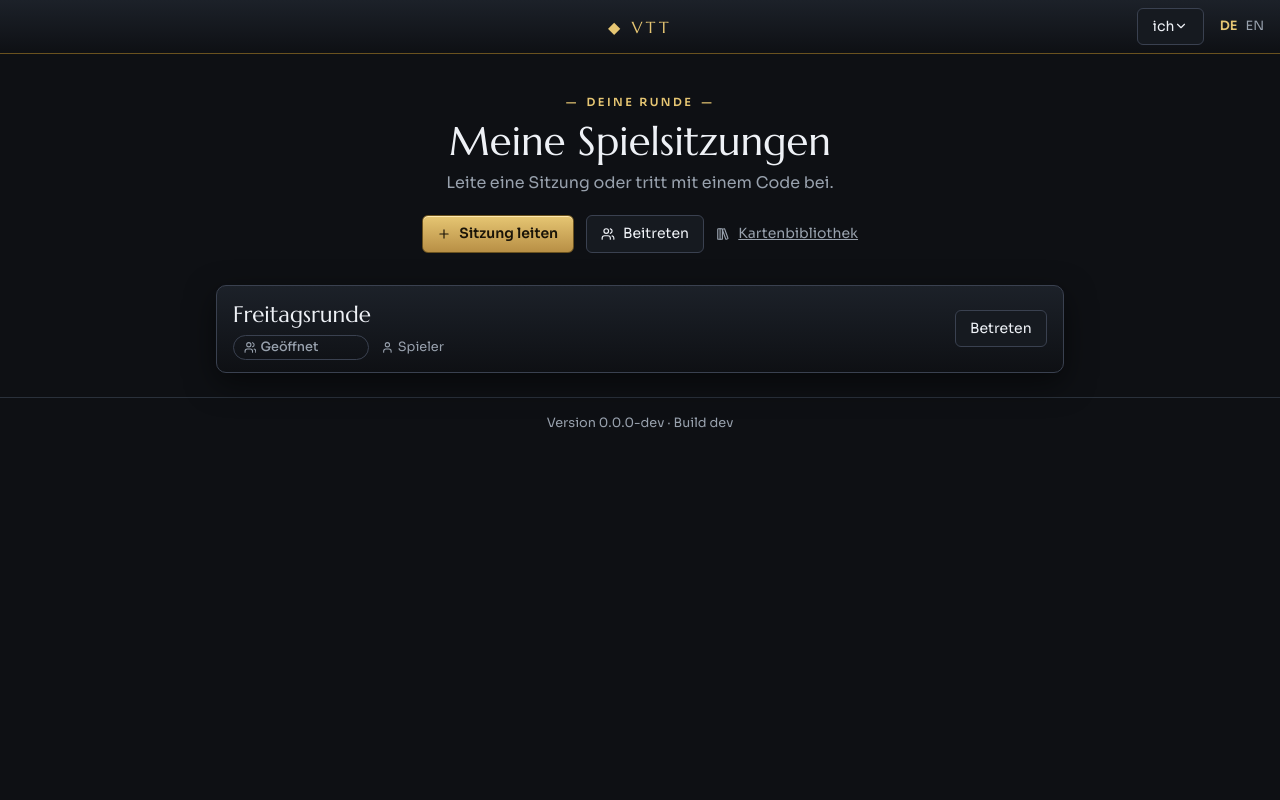
Scenario: Zeichnen aktiviert die Farbwahl
Expected: the heading "Freitagsrunde" is shown, [233,300,371,328]
Click the button "Betreten" at (1001, 328), box [955,310,1047,347]
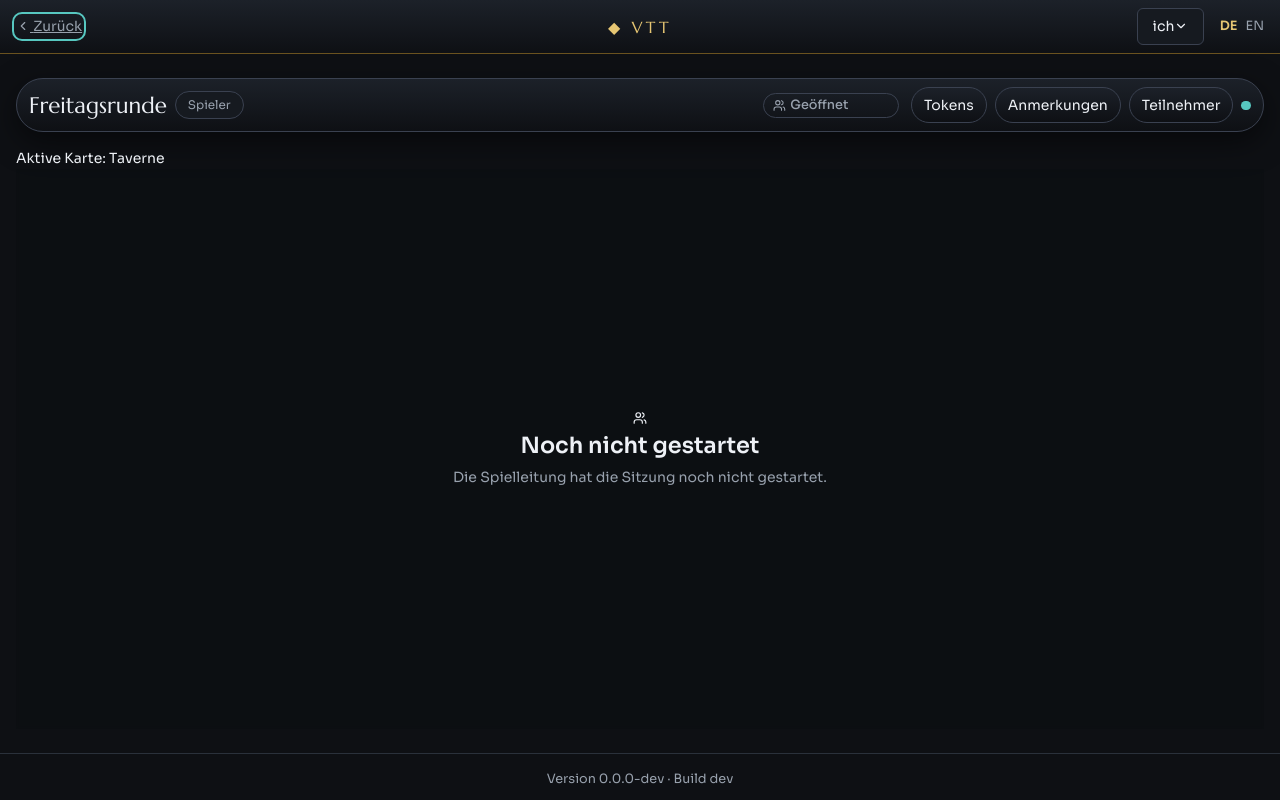
Click the button "Anmerkungen" at (1058, 105), box [995,87,1121,123]
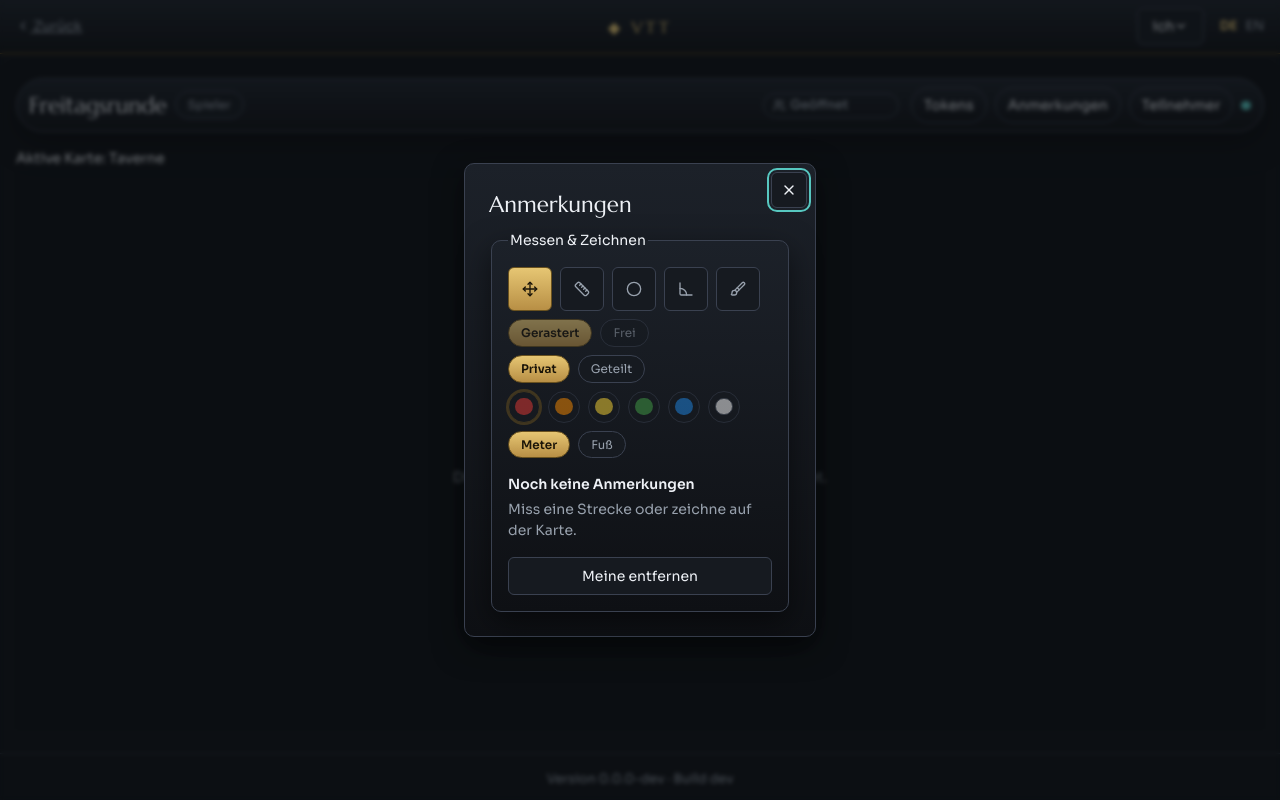
Expected: the dialog "Anmerkungen" is shown, [464,163,816,637]
Click the button named "Zeichnen" at (738, 289), box [716,267,760,311]
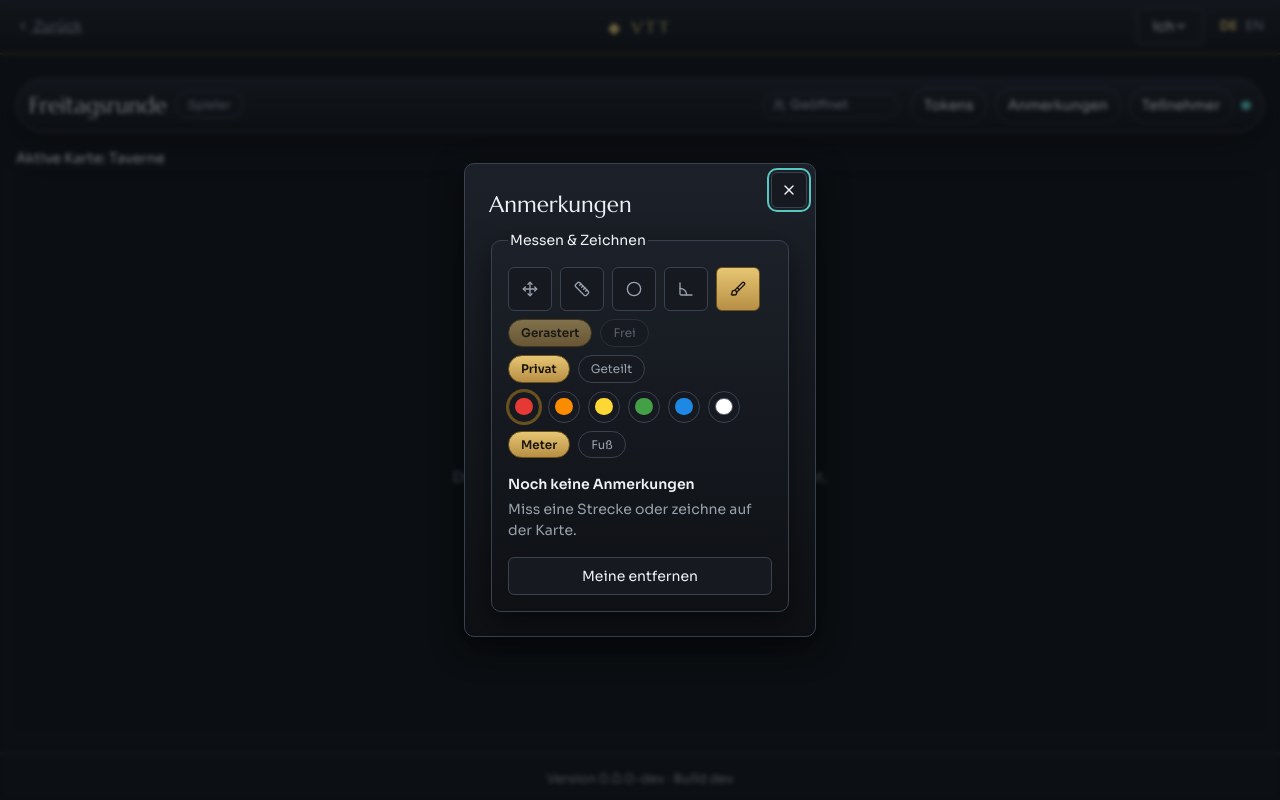
Expected: the button "Gerastert" is disabled, [508,319,592,347]
Expected: the button named "Rot" is enabled, [508,390,540,422]
